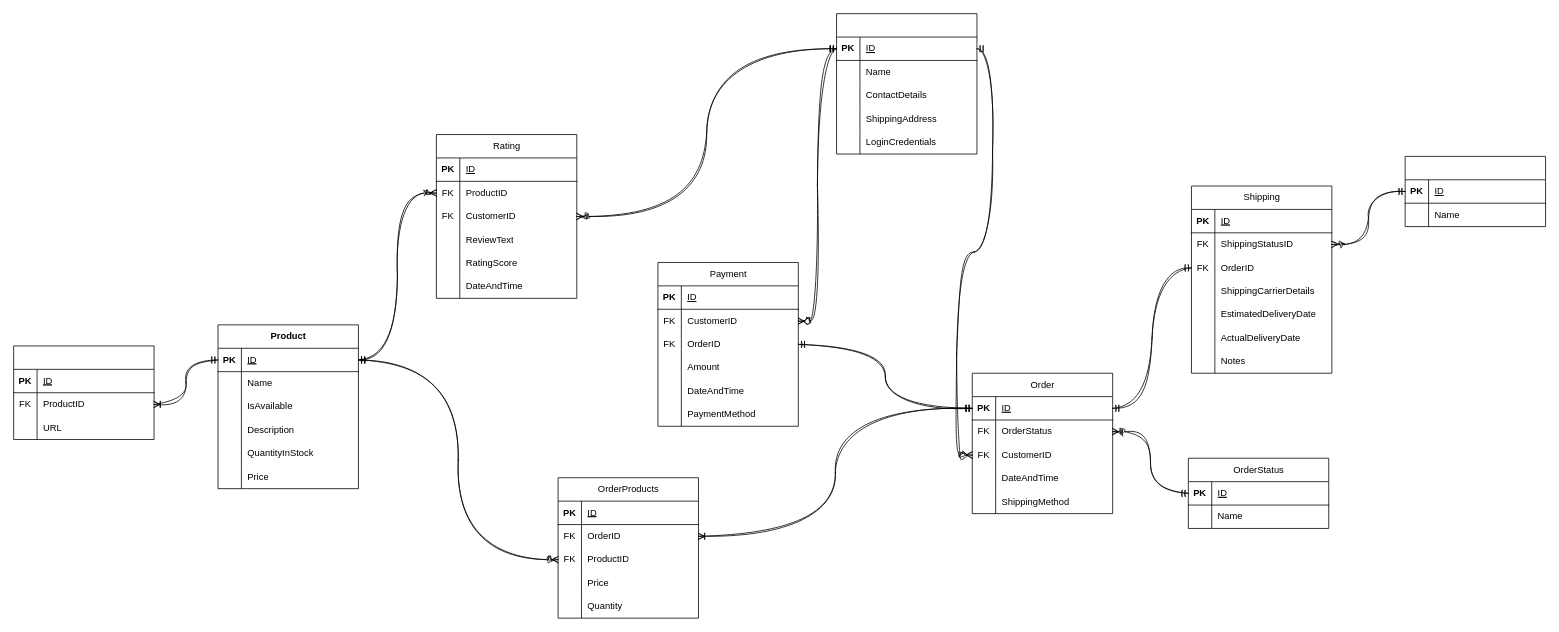
The diagram is 1559 pixels wide and 632 high, and some of its shapes have lost their labels. The box of each missing label's shape, as (x1, y1, x2, y2) in pixels:
Customer: (836, 13, 977, 154)
Image: (13, 345, 154, 440)
ShippingStatus: (1404, 156, 1546, 227)
